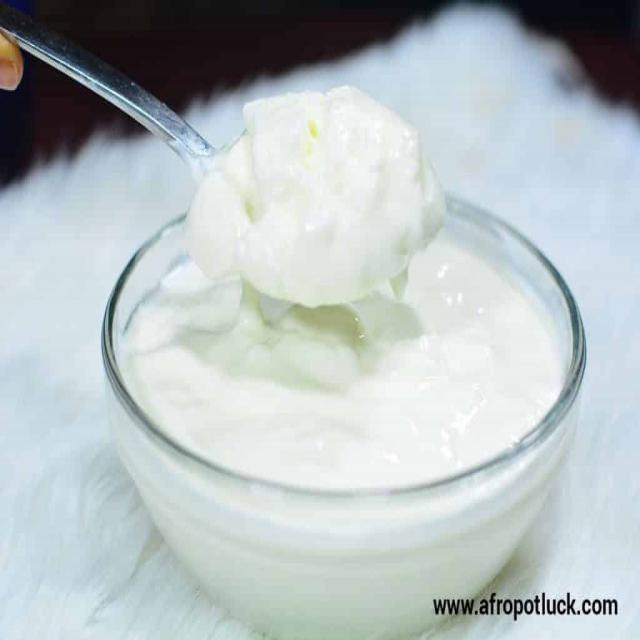yogurt: (112, 99, 577, 640)
